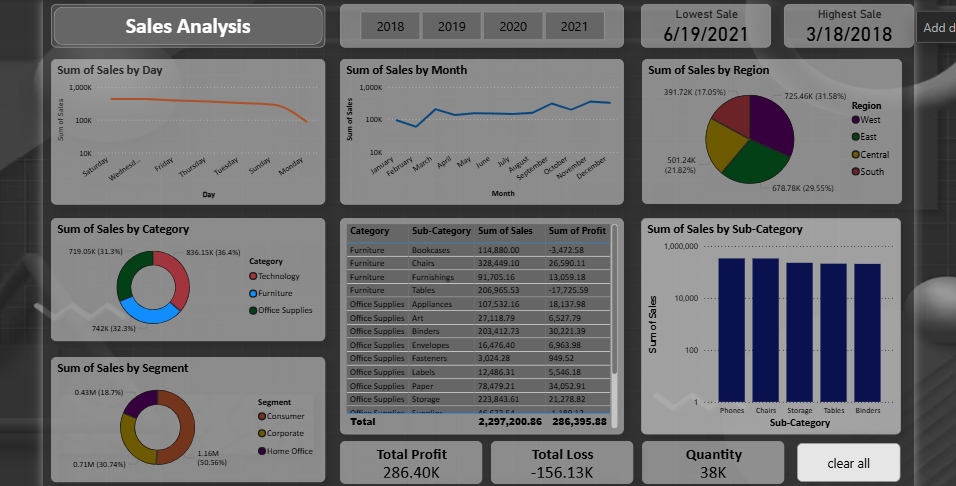

This screenshot's page, from the dashboard's own definition file:
{"tool":"powerbi","page":{"name":"Dash","canvas":[1280,720],"ordinal":0},"visuals":[{"type":"card","title":"Highest Sale","fields":{"Values":["Orders.Highest Sale Date"]},"box":[1089,7.5,191.2,64.2],"z":0},{"type":"card","title":"Lowest Sale","fields":{"Values":["Orders.Lowest Sale Date"]},"box":[878.3,7.5,191.2,64.2],"z":1000},{"type":"lineChart","fields":{"Category":["Orders.Order Date.Variation.Date Hierarchy.Month"],"Y":["Sum(Orders.Sales)"]},"box":[436.2,88.1,416.8,213.6],"z":2000},{"type":"lineChart","title":"Sum of Sales by Day","fields":{"Category":["Orders.Day Name"],"Y":["Sum(Orders.Sales)"]},"box":[12,88.1,403.3,213.6],"z":3000},{"type":"donutChart","fields":{"Category":["Orders.Category"],"Y":["Sum(Orders.Sales)"]},"box":[12,321.2,403.3,180.7],"z":4000},{"type":"donutChart","fields":{"Category":["Orders.Segment"],"Y":["Sum(Orders.Sales)"]},"box":[12,525.8,403.3,183.7],"z":5000},{"type":"columnChart","fields":{"Category":["Orders.Sub-Category"],"Y":["Sum(Orders.Sales)"]},"box":[878.3,321.2,382.4,318.2],"z":6000},{"type":"pieChart","fields":{"Category":["Orders.Region"],"Y":["Sum(Orders.Sales)"]},"box":[880.2,88.2,382,213.1],"z":7000},{"type":"tableEx","fields":{"Values":["Orders.Category","Orders.Sub-Category","Sum(Orders.Sales)","Sum(Orders.Profit)"]},"box":[436.2,321.2,416.8,318.2],"z":8000},{"type":"slicer","fields":{"Values":["Orders.Order Date.Variation.Date Hierarchy.Year"]},"box":[436.2,7.5,416.8,64.2],"z":9000},{"type":"actionButton","title":"clear all ","box":[1108.4,652.8,152.4,56.8],"z":10000},{"type":"shape","box":[12,7.5,403.3,64.2],"z":11000},{"type":"card","title":"Total Profit","fields":{"Values":["Sum(Orders.Profit)"]},"box":[436.2,649.8,209.1,62.7],"z":12000},{"type":"card","title":"Quantity","fields":{"Values":["Sum(Orders.Quantity)"]},"box":[879.8,649.8,209.1,62.7],"z":13000},{"type":"card","title":"Total Loss","fields":{"Values":["Orders.Loss"]},"box":[658.8,649.8,209.1,62.7],"z":14000}]}

Visuals, with their boxes in screenshot pixels (x1, y1, x2, y2):
"Highest Sale" card: {"x1": 786, "y1": 0, "x2": 917, "y2": 44}
"Lowest Sale" card: {"x1": 640, "y1": 0, "x2": 772, "y2": 44}
lineChart - Orders.Order Date.Variation.Date Hierarchy.Month x Sum(Orders.Sales): {"x1": 336, "y1": 56, "x2": 623, "y2": 203}
"Sum of Sales by Day" lineChart: {"x1": 43, "y1": 56, "x2": 321, "y2": 203}
donutChart - Orders.Category x Sum(Orders.Sales): {"x1": 43, "y1": 216, "x2": 321, "y2": 341}
donutChart - Orders.Segment x Sum(Orders.Sales): {"x1": 43, "y1": 357, "x2": 321, "y2": 484}
columnChart - Orders.Sub-Category x Sum(Orders.Sales): {"x1": 640, "y1": 216, "x2": 904, "y2": 436}
pieChart - Orders.Region x Sum(Orders.Sales): {"x1": 642, "y1": 56, "x2": 905, "y2": 203}
tableEx - Orders.Category x Orders.Sub-Category: {"x1": 336, "y1": 216, "x2": 623, "y2": 436}
slicer - Orders.Order Date.Variation.Date Hierarchy.Year: {"x1": 336, "y1": 0, "x2": 623, "y2": 44}
"clear all " actionButton: {"x1": 799, "y1": 445, "x2": 904, "y2": 484}
shape: {"x1": 43, "y1": 0, "x2": 321, "y2": 44}
"Total Profit" card: {"x1": 336, "y1": 443, "x2": 480, "y2": 485}
"Quantity" card: {"x1": 641, "y1": 443, "x2": 786, "y2": 485}
"Total Loss" card: {"x1": 489, "y1": 443, "x2": 633, "y2": 485}
